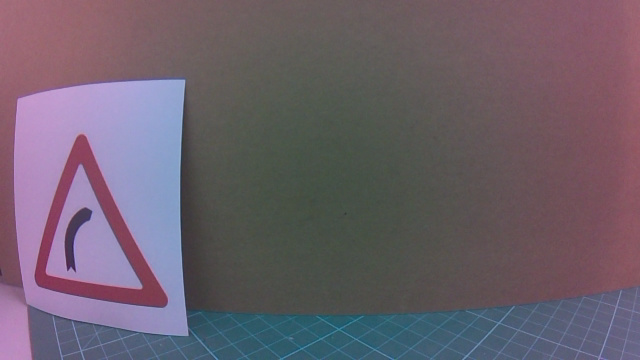right: (16, 135, 194, 311)
